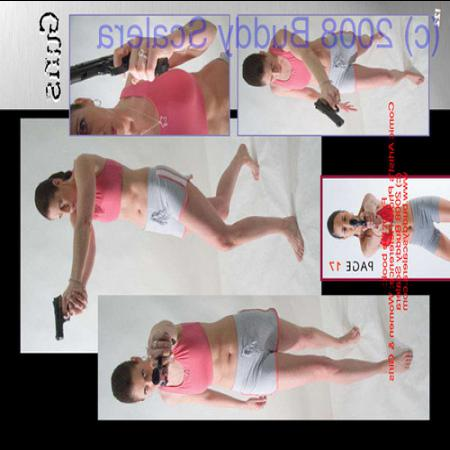Pistol: (68, 40, 166, 84), (150, 336, 178, 386), (51, 290, 76, 340), (314, 95, 344, 124), (348, 212, 368, 224)
